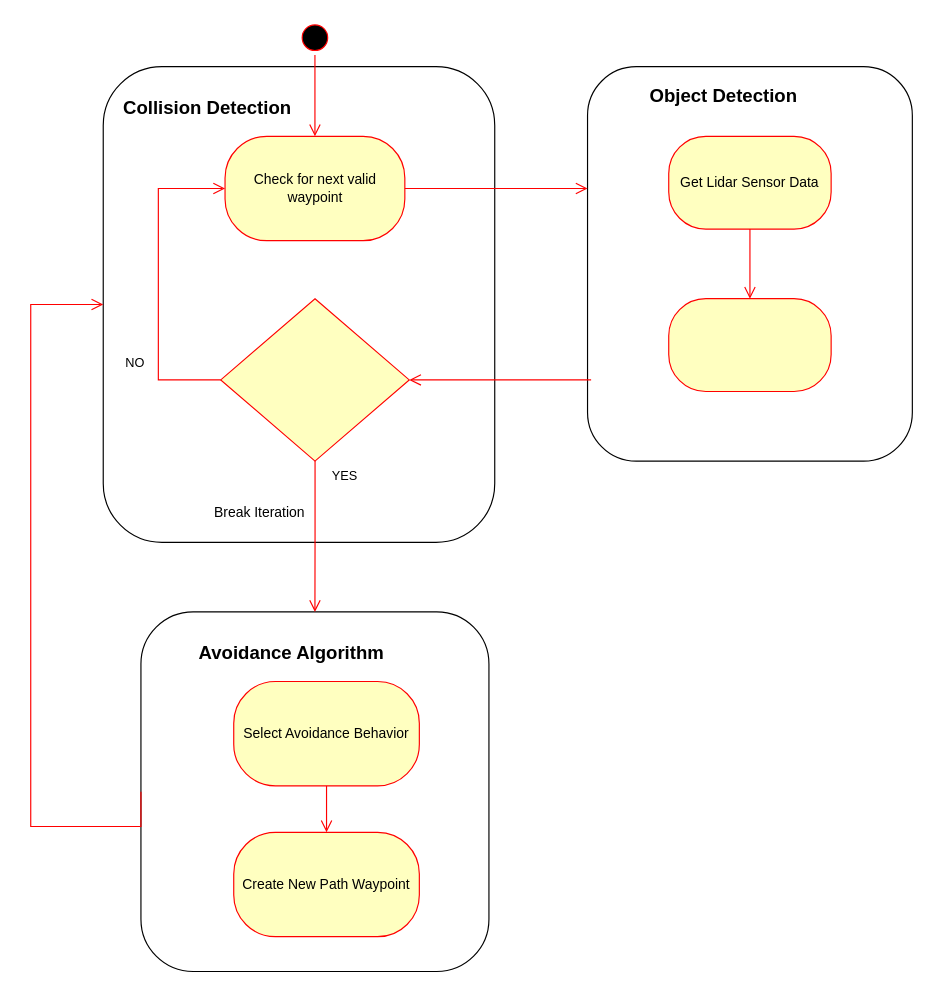
The diagram is 933 pixels wide and 992 high, and some of its shapes have lost their labels. The centre of each missing label's shape, as x and y in pixels:
Calculate Lidar Distances: (x=749, y=345)
Is distance < standoff?: (x=314, y=379)
